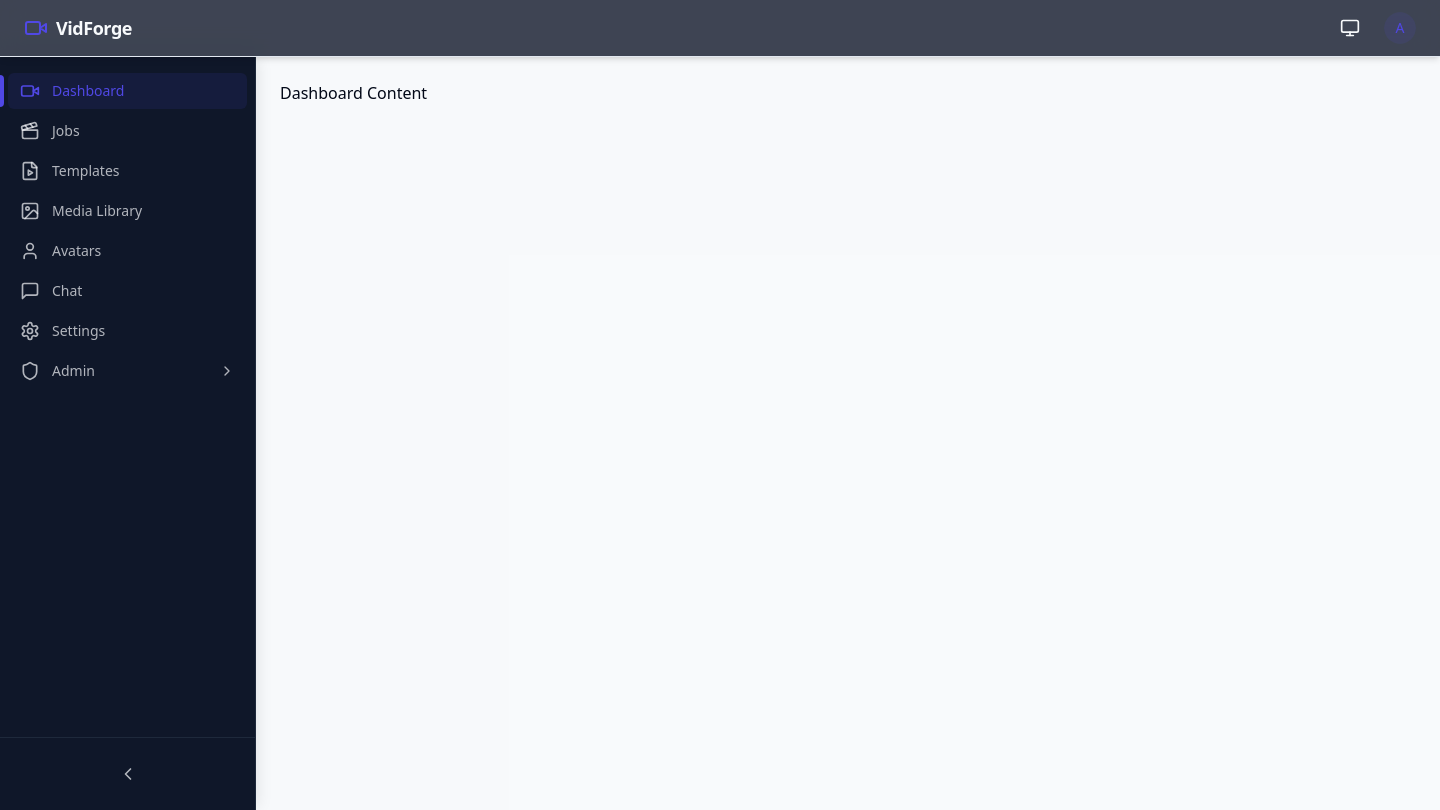
Scenario: Layout Sidebar Submenu (collapsed desktop) › expanded sidebar keeps existing inline group expansion
What coordinates should you click on to do the following:
click the button "Admin"
I would click on:
 (128, 371)
Its box is [8,353,247,389].
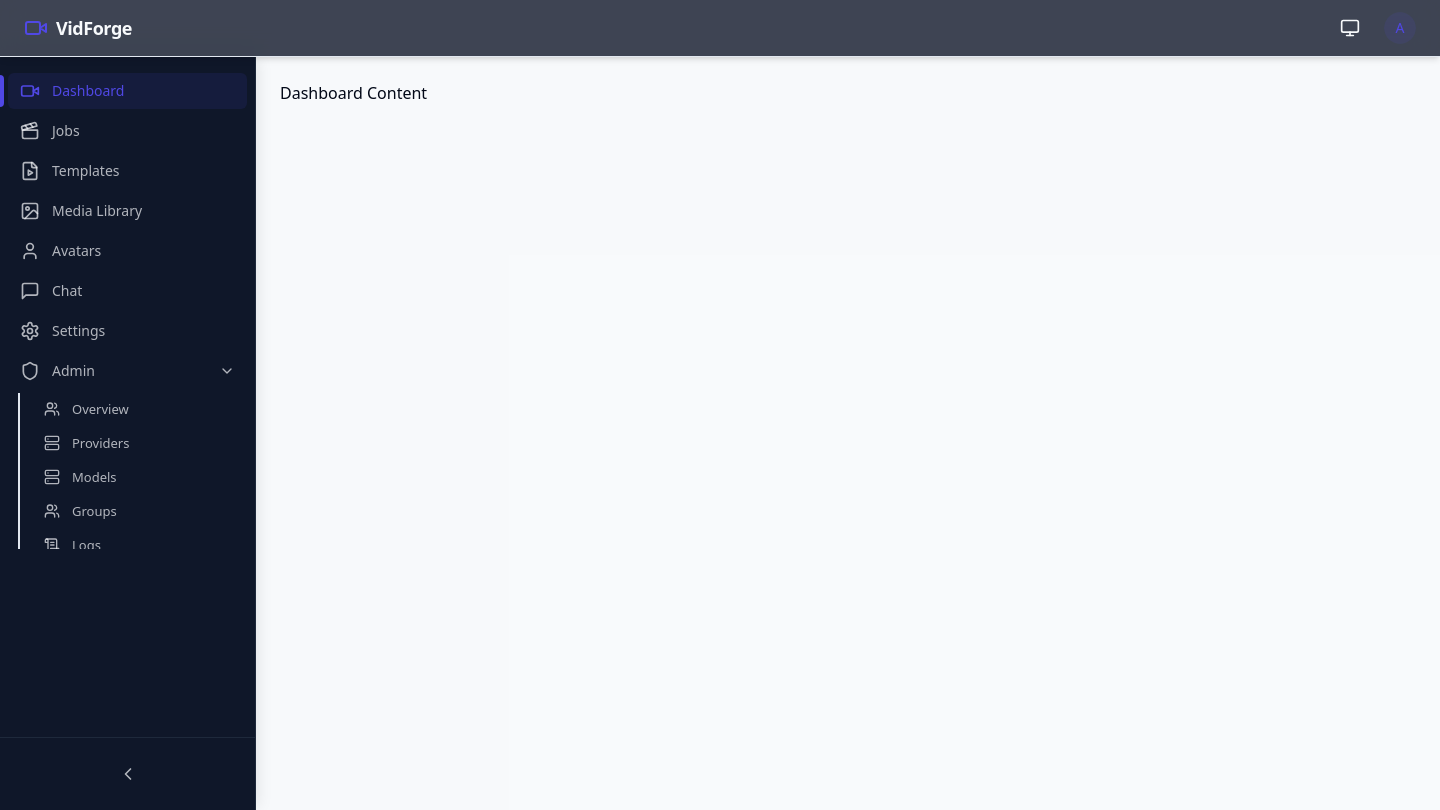
Expected: the text "Overview" is shown, [72,399,129,419]
